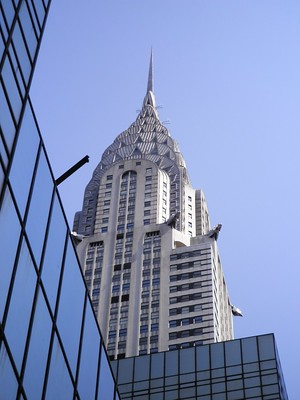medium: (49, 105, 240, 363)
